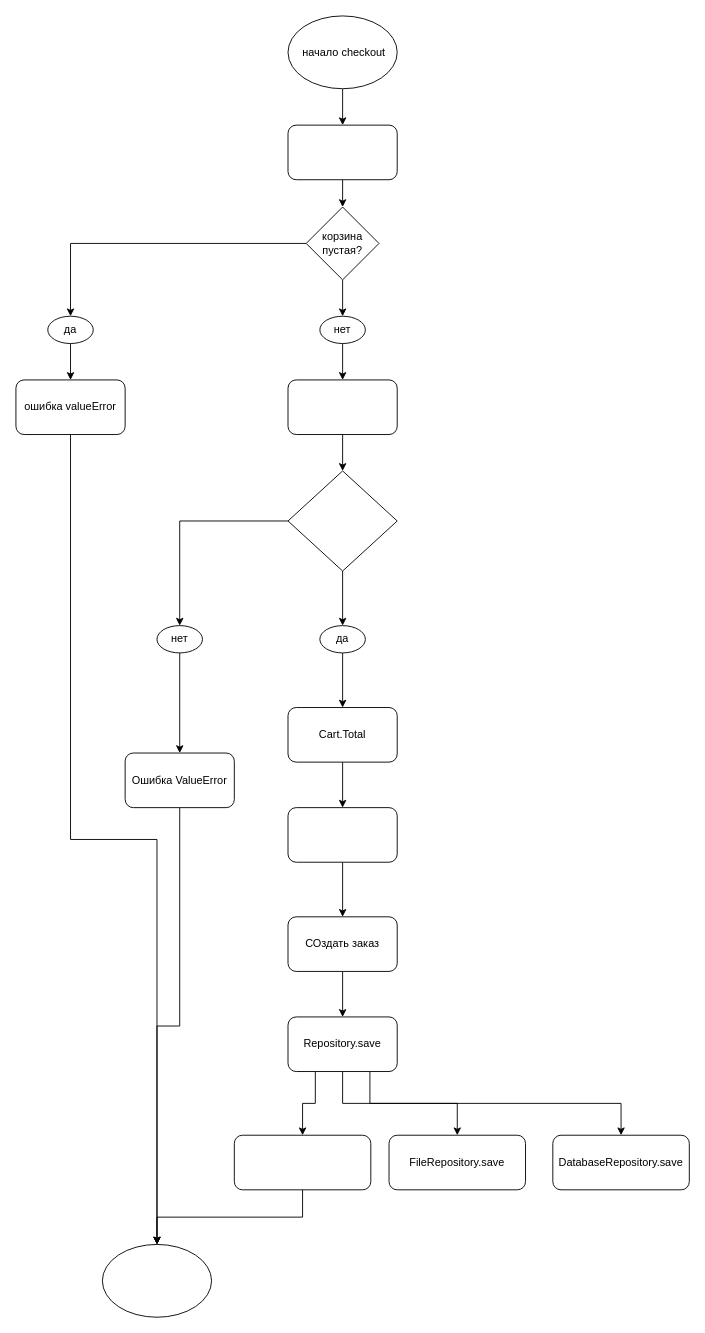
This 705x1333 diagram has some shape labels left out. Each missing label, with the centre of its shape:
"inventory.check" belongs at (342,407).
"OrderService.create" belongs at (342,834).
"вернуть заказ" belongs at (302,1162).
"все товары есть на складе?" belongs at (342,520).
"конец" belongs at (156,1280).
"получить корзину" belongs at (342,152).
